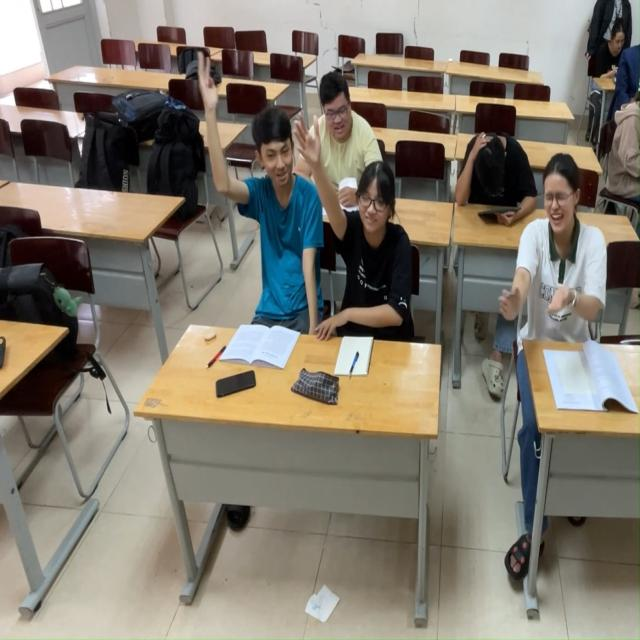raise_hand: (193, 35, 296, 380), (293, 126, 390, 385)
